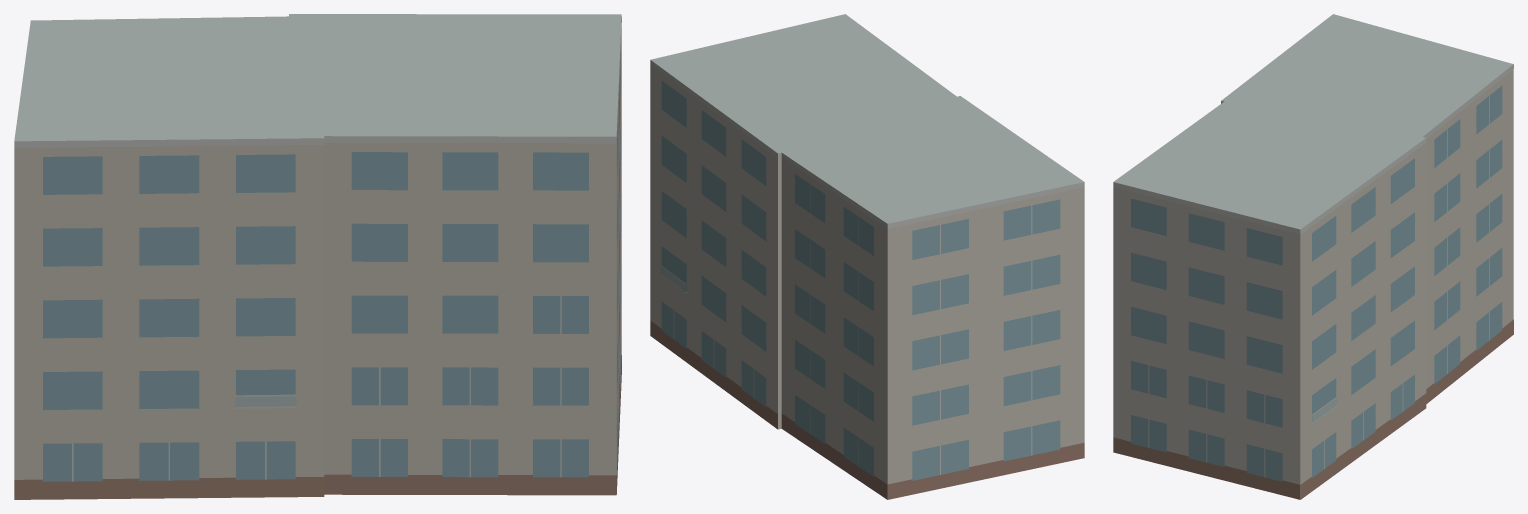
Rendered from survey-upis-32690600.glb.
The picture shows the model from 3 angles, left to right: view 1: azimuth 30°, elevation 25°; view 2: azimuth 150°, elevation 25°; view 3: azimuth 270°, elevation 25°; orthographic projection. The views are drawn at different scales.
Parts seen in each view (by area): view 1: survey-upis-32690600.tmp; view 2: survey-upis-32690600.tmp; view 3: survey-upis-32690600.tmp.
Boxes of the visible parts, x1,y1,x2,y2 form: survey-upis-32690600.tmp: [14, 14, 621, 499]; survey-upis-32690600.tmp: [650, 14, 1084, 499]; survey-upis-32690600.tmp: [1113, 14, 1513, 499].
Size of the model in its own units: 22.83 by 13.35 by 17.93.
